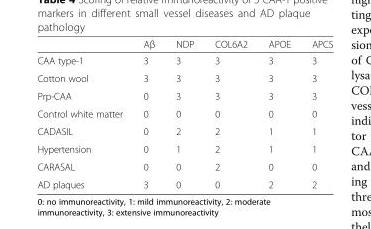table: (36, 36, 332, 189)
table column: (36, 36, 132, 189), (203, 36, 257, 189), (257, 36, 300, 189), (164, 36, 203, 189), (132, 36, 164, 189), (300, 36, 332, 189)
table column header: (36, 36, 332, 51)
table row: (36, 51, 332, 69), (36, 86, 332, 104), (36, 104, 332, 122), (36, 139, 332, 157), (36, 157, 332, 175), (36, 69, 332, 86), (36, 122, 332, 139), (36, 36, 332, 51), (36, 175, 332, 189)
